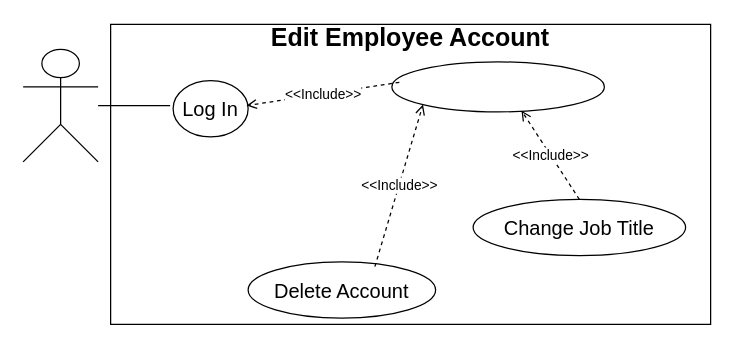
The diagram is 733 pixels wide and 346 high, and some of its shapes have lost their labels. The centre of each missing label's shape, as x and y in pixels:
Manager: point (60, 105)
View Employee Account: point (497, 86)
